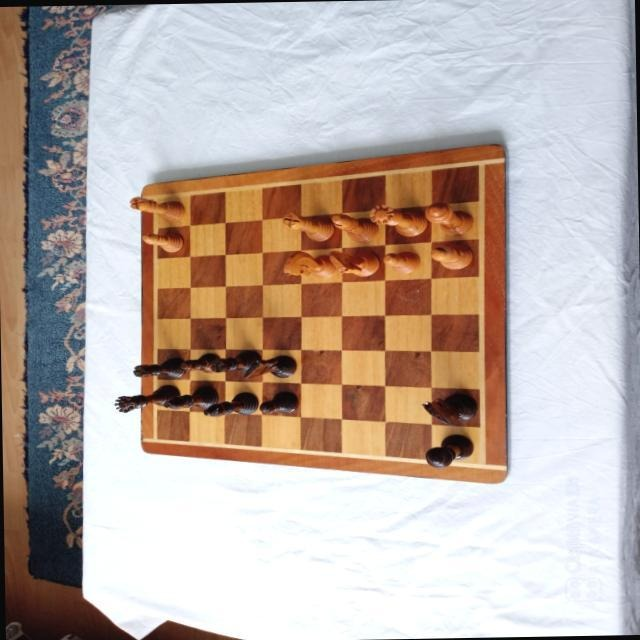black-bishop: (202, 390, 258, 417), (161, 383, 218, 408)
black-king: (422, 432, 473, 467)
black-knight: (419, 391, 477, 425), (241, 353, 296, 378)
black-pawn: (258, 388, 298, 413), (179, 351, 220, 373)
black-queen: (112, 383, 180, 412), (209, 348, 259, 371)
black-rook: (132, 354, 184, 377)
white-bishop: (330, 210, 377, 241), (429, 240, 471, 267)
white-king: (423, 200, 473, 236)
white-knight: (282, 247, 338, 276), (328, 248, 379, 275)
white-pawn: (141, 228, 183, 251), (382, 248, 420, 272)
white-queen: (368, 202, 428, 236)
white-rook: (281, 209, 334, 241), (128, 193, 184, 222)
